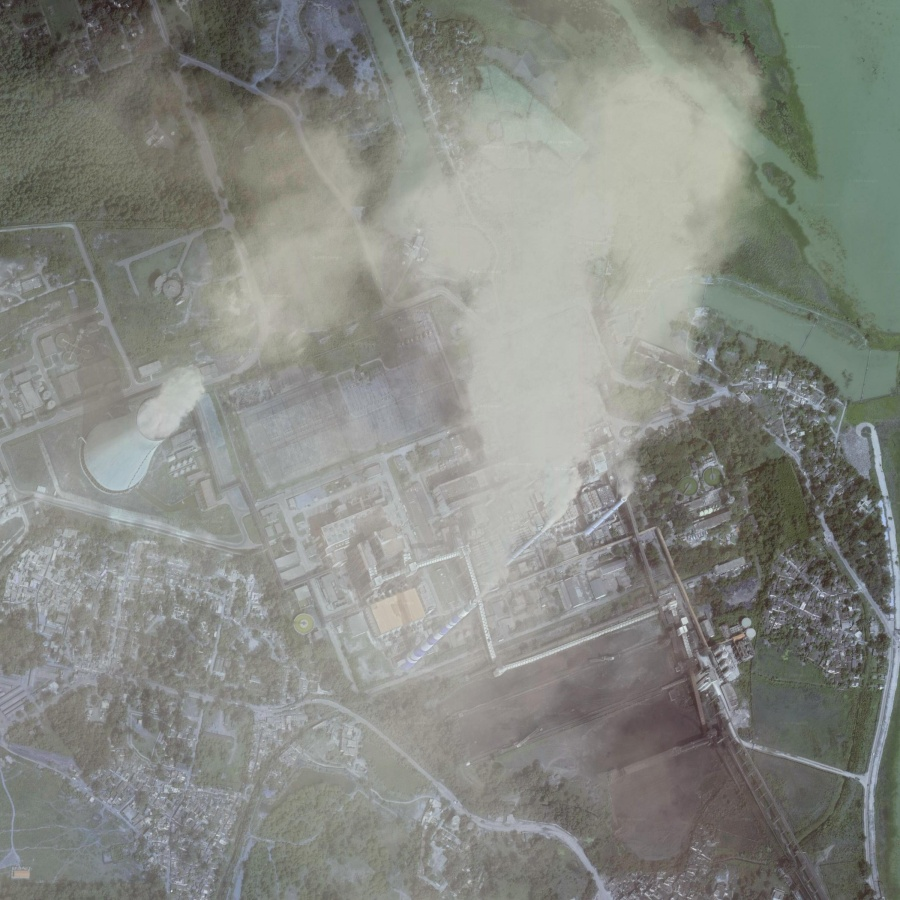PowerPlant: (364, 419, 654, 700), (73, 326, 228, 537)
